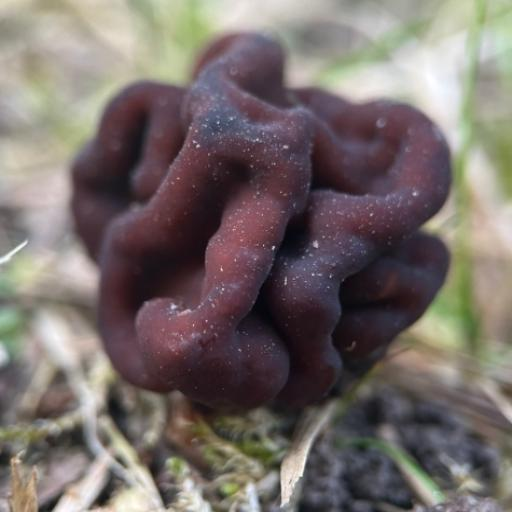mushroom: (68, 31, 451, 418)
